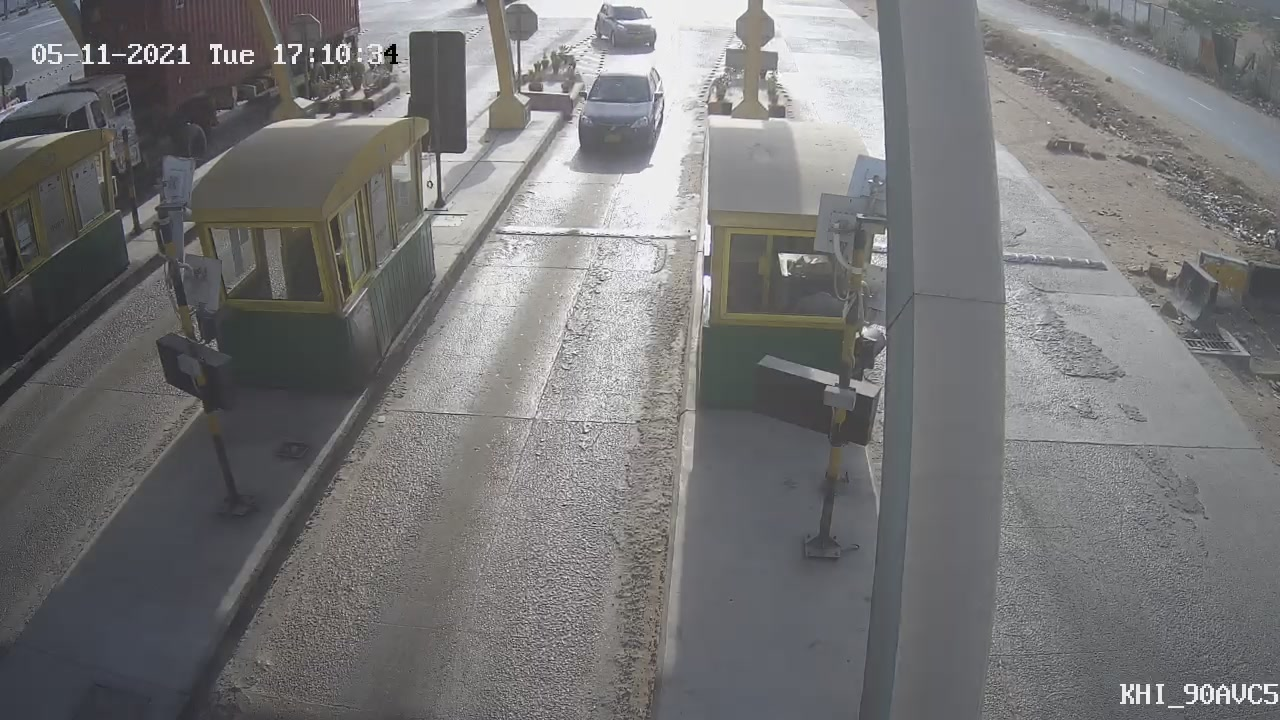F1: (560, 48, 676, 168)
